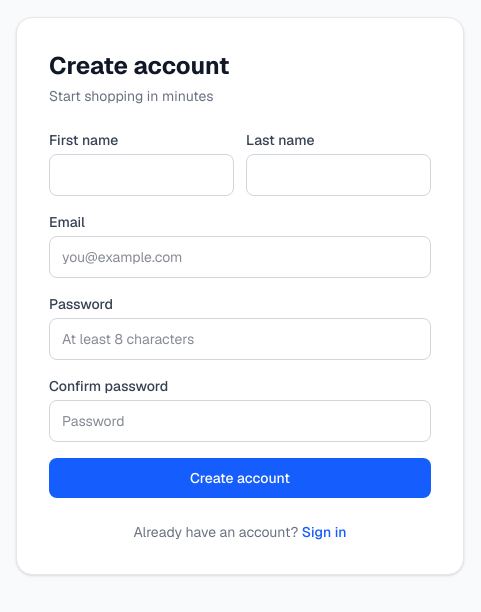
Scenario: RegisterPage › shows validation when passwords do not match
In the field labelled "First name": x=142, y=175 49,154 -> 234,196, type "Test"
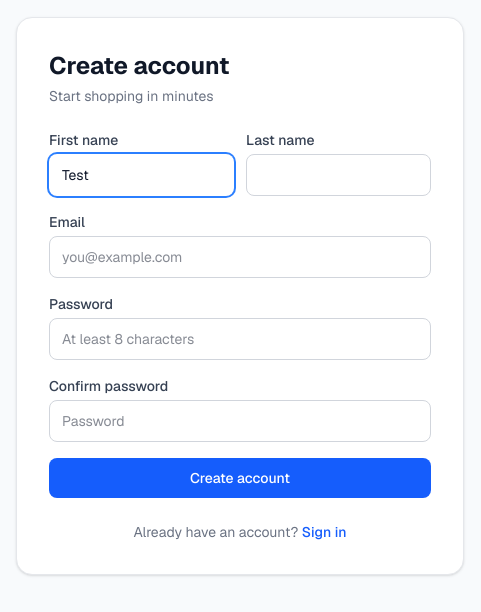
In the field labelled "Last name": x=338, y=175 246,154 -> 431,196, type "User"
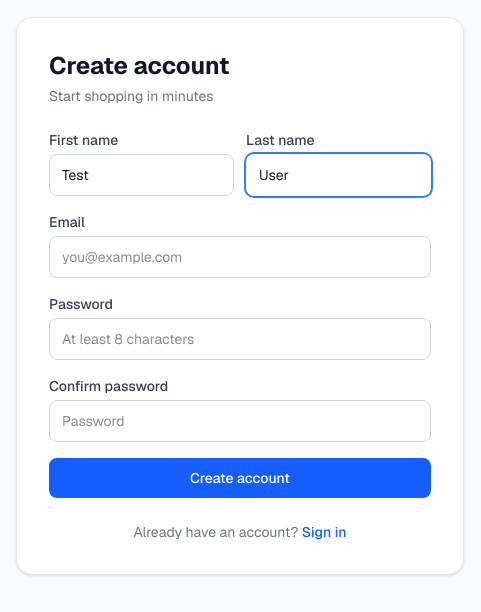
In the field labelled "Email": x=240, y=257 49,236 -> 431,278, type "test@example.com"
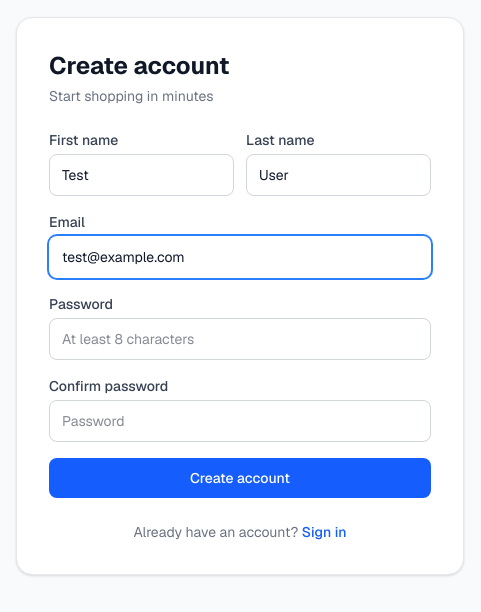
In the password field labelled "Password": x=240, y=339 49,318 -> 431,360, type "Password123!"
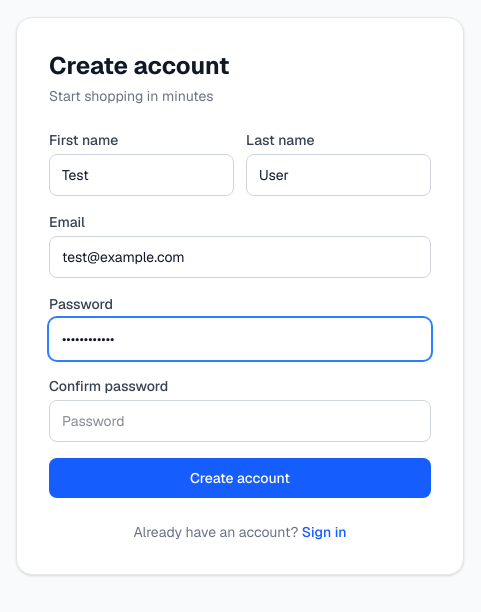
In the password field labelled "Confirm password": x=240, y=421 49,400 -> 431,442, type "Different123!"
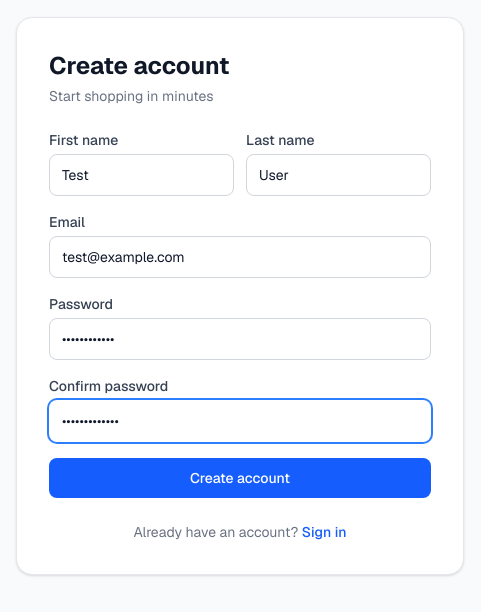
Click the button "Create account": x=240, y=478 49,458 -> 431,498
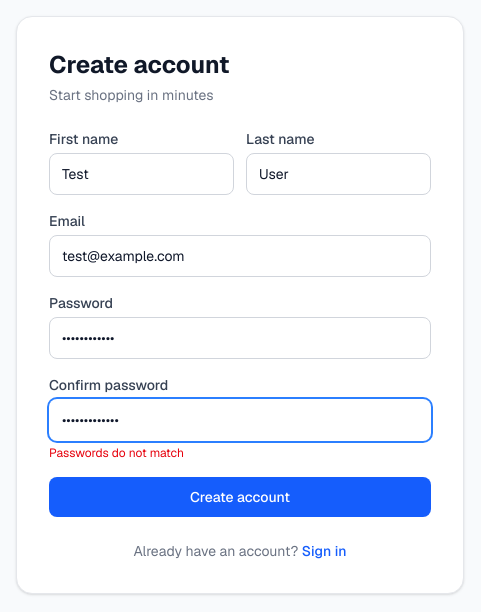
Check: the text "Passwords do not match" is shown, box 49,445 -> 184,461
